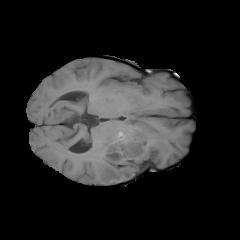glioma: (84, 111, 168, 182)
